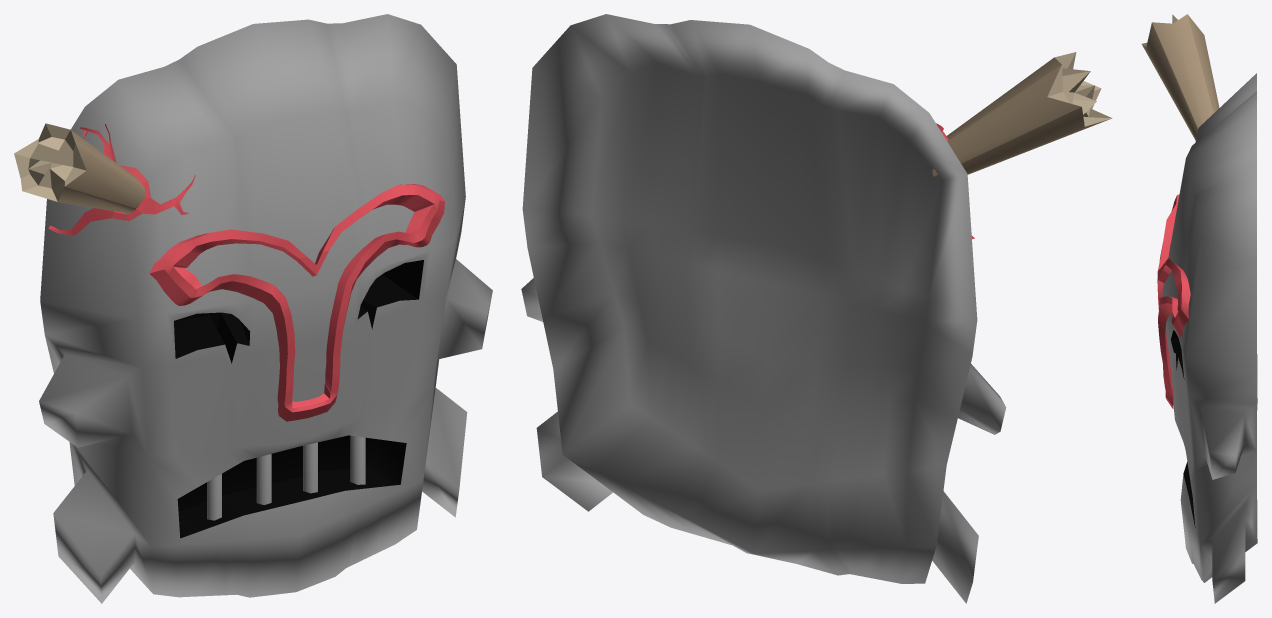
File: mask2.fbx
The picture shows the model from 3 angles, left to right: view 1: azimuth 30°, elevation 25°; view 2: azimuth 150°, elevation 25°; view 3: azimuth 270°, elevation 25°; orthographic projection. The views are drawn at different scales.
Visible parts, largest first — view 1: pCube12; view 2: pCube12; view 3: pCube12.
Boxes of the visible parts, x1,y1,x2,y2 form: pCube12: (14,14,492,603); pCube12: (521,14,1112,603); pCube12: (1141,14,1257,603).
Bounding box in the file's own units: 9.26 × 9.27 × 2.21.
